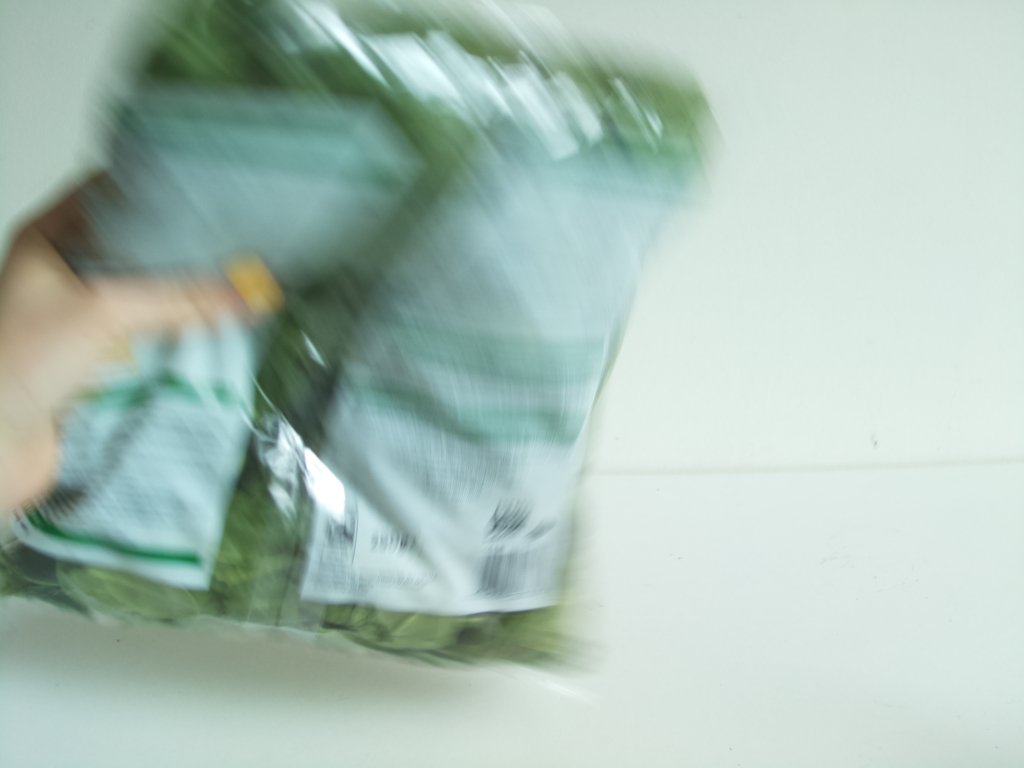salad: (1, 1, 717, 691)
